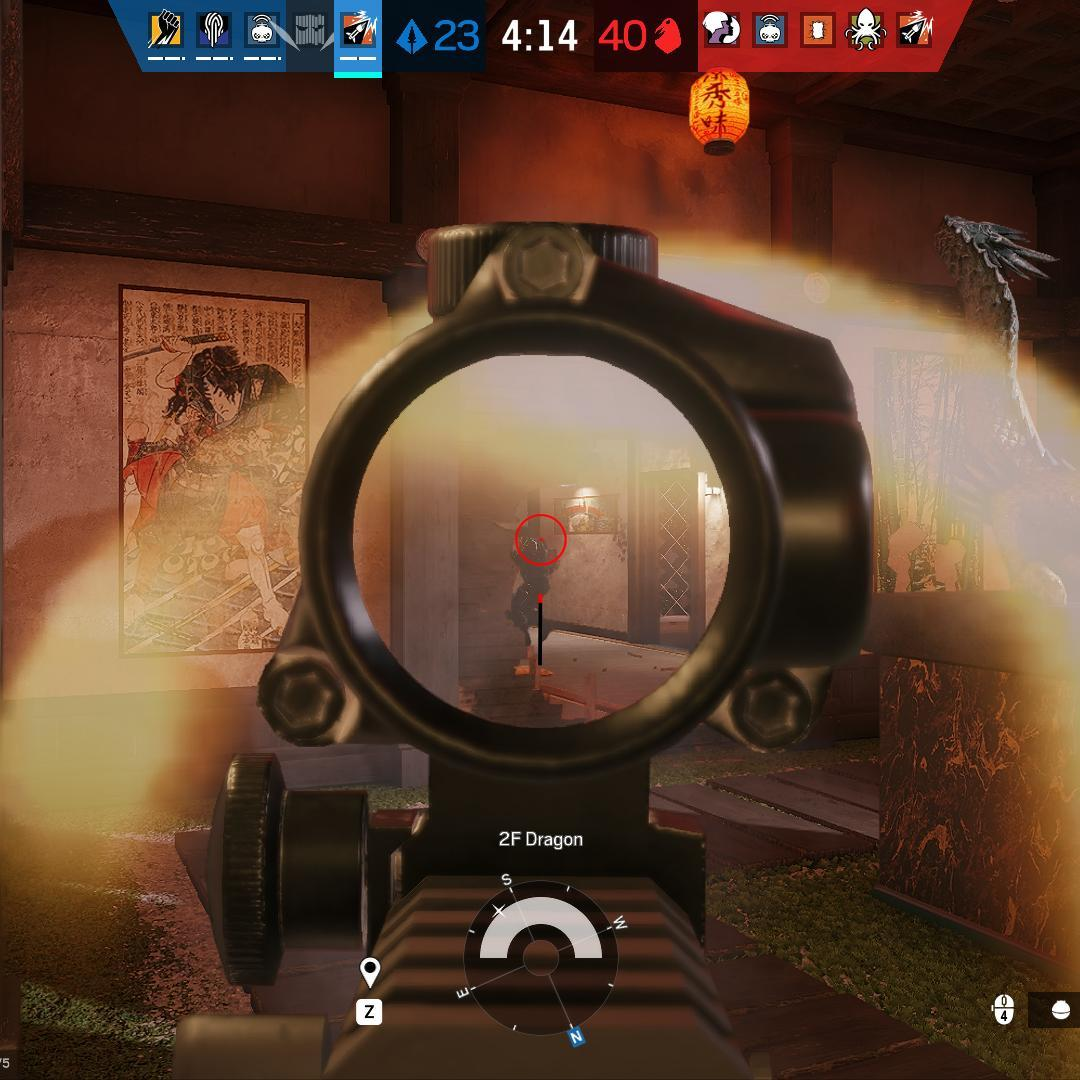Character: (510, 528, 556, 668)
